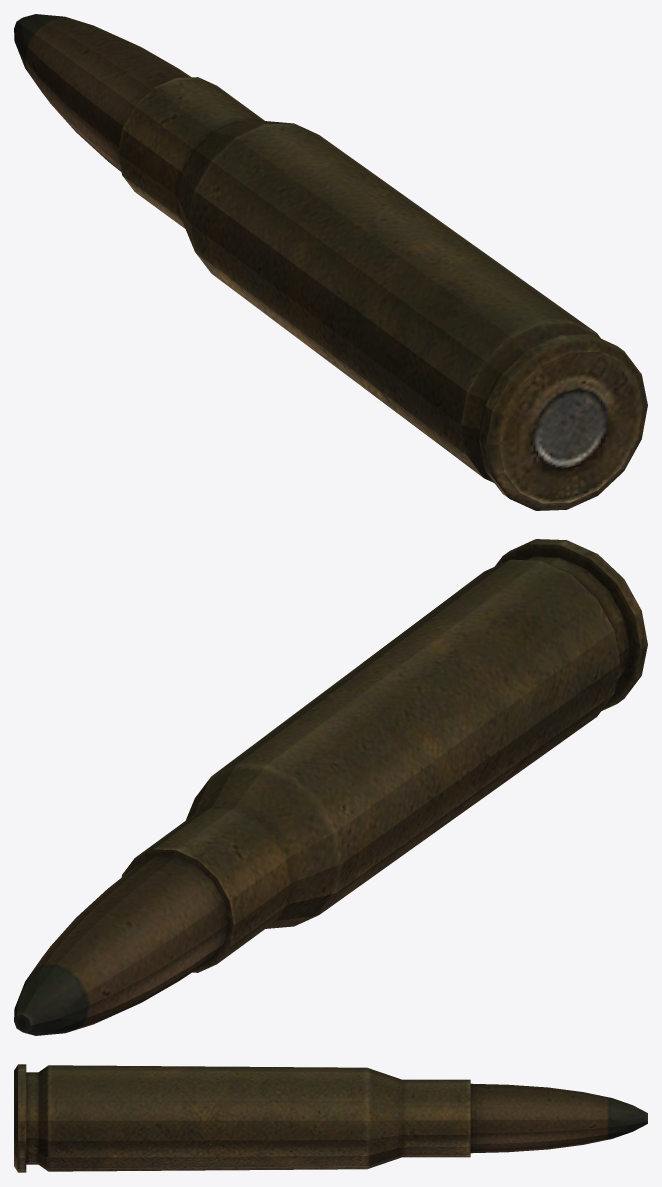
3 renders of one model, top to bottom at view 1: azimuth 30°, elevation 25°; view 2: azimuth 150°, elevation 25°; view 3: azimuth 270°, elevation 25°, orthographic. The views are drawn at different scales.
Visible parts, largest first — view 1: TW_5a6086ea4f39f99cd479502f_PZ_Import; view 2: TW_5a6086ea4f39f99cd479502f_PZ_Import; view 3: TW_5a6086ea4f39f99cd479502f_PZ_Import.
Part boxes in pixels (<box>): TW_5a6086ea4f39f99cd479502f_PZ_Import: <box>14,14,647,510</box>; TW_5a6086ea4f39f99cd479502f_PZ_Import: <box>14,539,647,1035</box>; TW_5a6086ea4f39f99cd479502f_PZ_Import: <box>14,1064,647,1172</box>.
Size of the model in its own units: 0.00702 by 0.0411 by 0.00702.
1 material, 1 textured.
